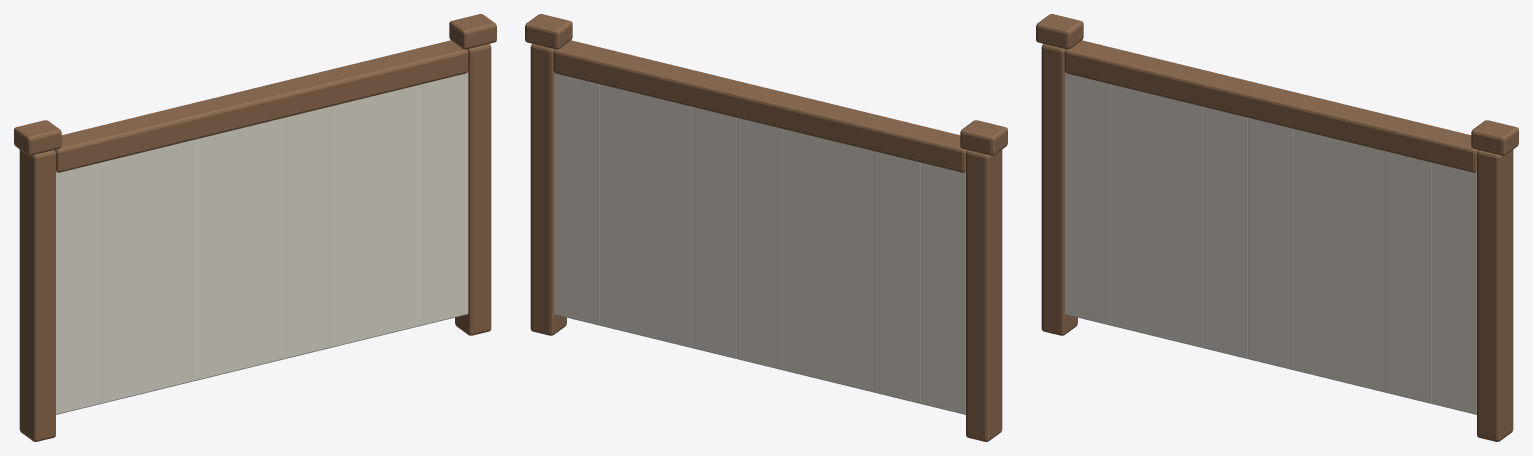
File: fence_08.glb
3 views of the same model, side by side, from view 1: azimuth 30°, elevation 25°; view 2: azimuth 150°, elevation 25°; view 3: azimuth 330°, elevation 25° (orthographic).
Visible parts, largest first — view 1: Tint, Capping rail, Fence post, Fence post.001, Post cap.001, Post cap; view 2: Tint, Capping rail, Fence post, Fence post.001, Post cap.001, Post cap; view 3: Tint, Capping rail, Fence post.001, Fence post, Post cap, Post cap.001.
Part boxes in pixels (x1,y1,x2,y2): Tint: (56,71,468,414); Capping rail: (55,40,468,172); Fence post: (19,149,55,441); Fence post.001: (455,44,491,335); Post cap.001: (449,14,496,49); Post cap: (14,120,61,155); Tint: (553,71,965,414); Capping rail: (553,40,966,172); Fence post: (966,149,1002,441); Fence post.001: (530,44,566,335); Post cap.001: (525,14,572,49); Post cap: (960,120,1007,155); Tint: (1064,71,1476,414); Capping rail: (1064,40,1477,172); Fence post.001: (1477,149,1513,441); Fence post: (1041,44,1077,335); Post cap: (1036,14,1083,49); Post cap.001: (1471,120,1518,155).
Size of the model in its own units: 2.05 by 1.28 by 0.12.
